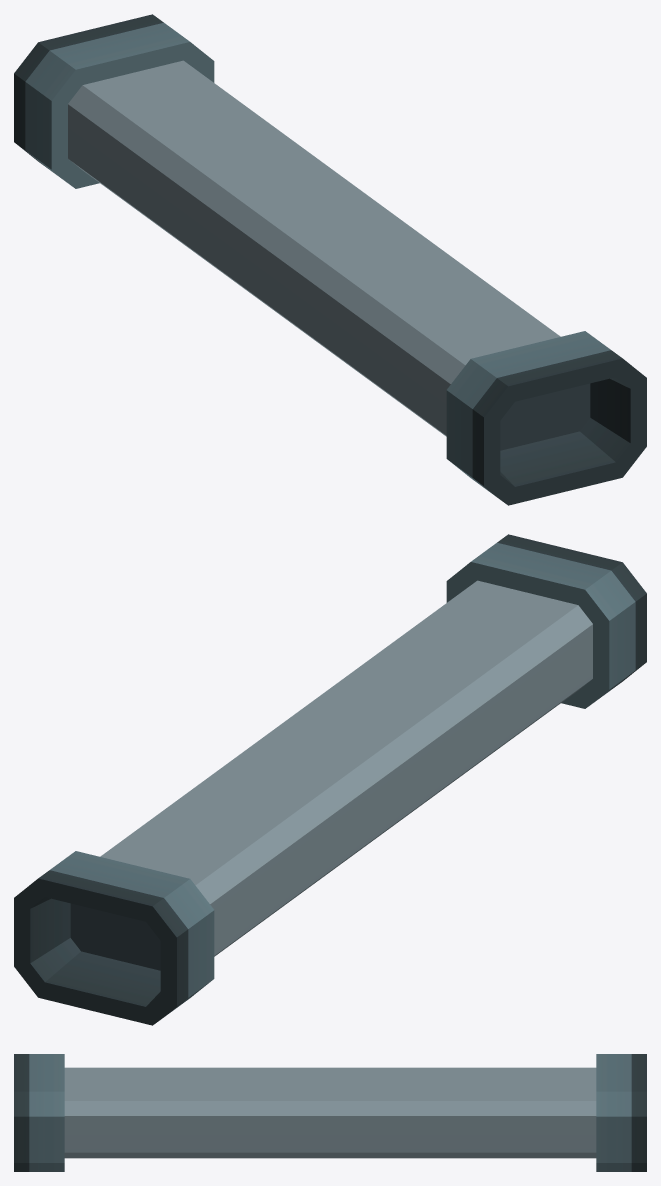
The model's file is Vent_tube_002.glb.
The picture shows the model from 3 angles, top to bottom: view 1: azimuth 30°, elevation 25°; view 2: azimuth 150°, elevation 25°; view 3: azimuth 270°, elevation 25°; orthographic projection. The views are drawn at different scales.
Parts seen in each view (by area): view 1: Vent_tube_002; view 2: Vent_tube_002; view 3: Vent_tube_002.
Boxes of the visible parts, box(x1,y1,x2,y2) form: Vent_tube_002: box(14, 14, 646, 505); Vent_tube_002: box(14, 534, 646, 1025); Vent_tube_002: box(14, 1054, 646, 1171).
Bounding box in the file's own units: 0.5 × 0.35 × 2.5.
Materials: 1 (1 with a texture image).
